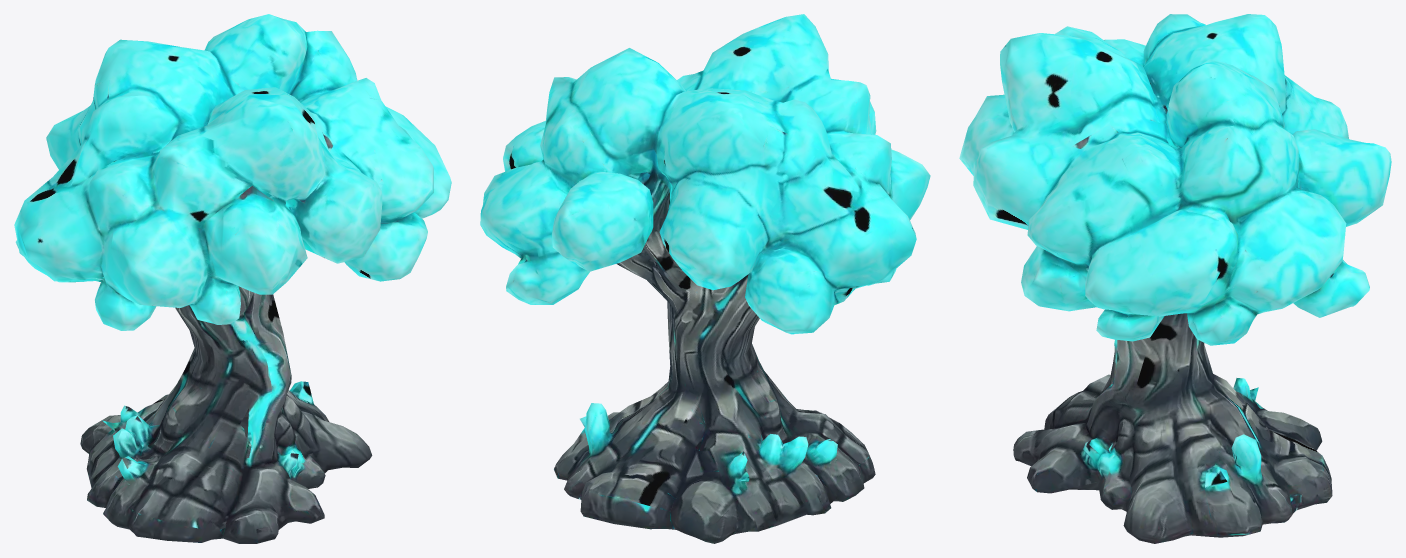
The model's file is tree.glb.
3 renders of one model, left to right at view 1: azimuth 30°, elevation 25°; view 2: azimuth 150°, elevation 25°; view 3: azimuth 270°, elevation 25°, orthographic. The views are drawn at different scales.
Visible parts, largest first — view 1: Mesh0; view 2: Mesh0; view 3: Mesh0.
Boxes of the visible parts, x1,y1,x2,y2 form: Mesh0: (14,14,451,543); Mesh0: (480,14,930,543); Mesh0: (959,14,1391,543).
Bounding box in the file's own units: 0.198 × 0.2 × 0.177.
1 material, 1 textured.
